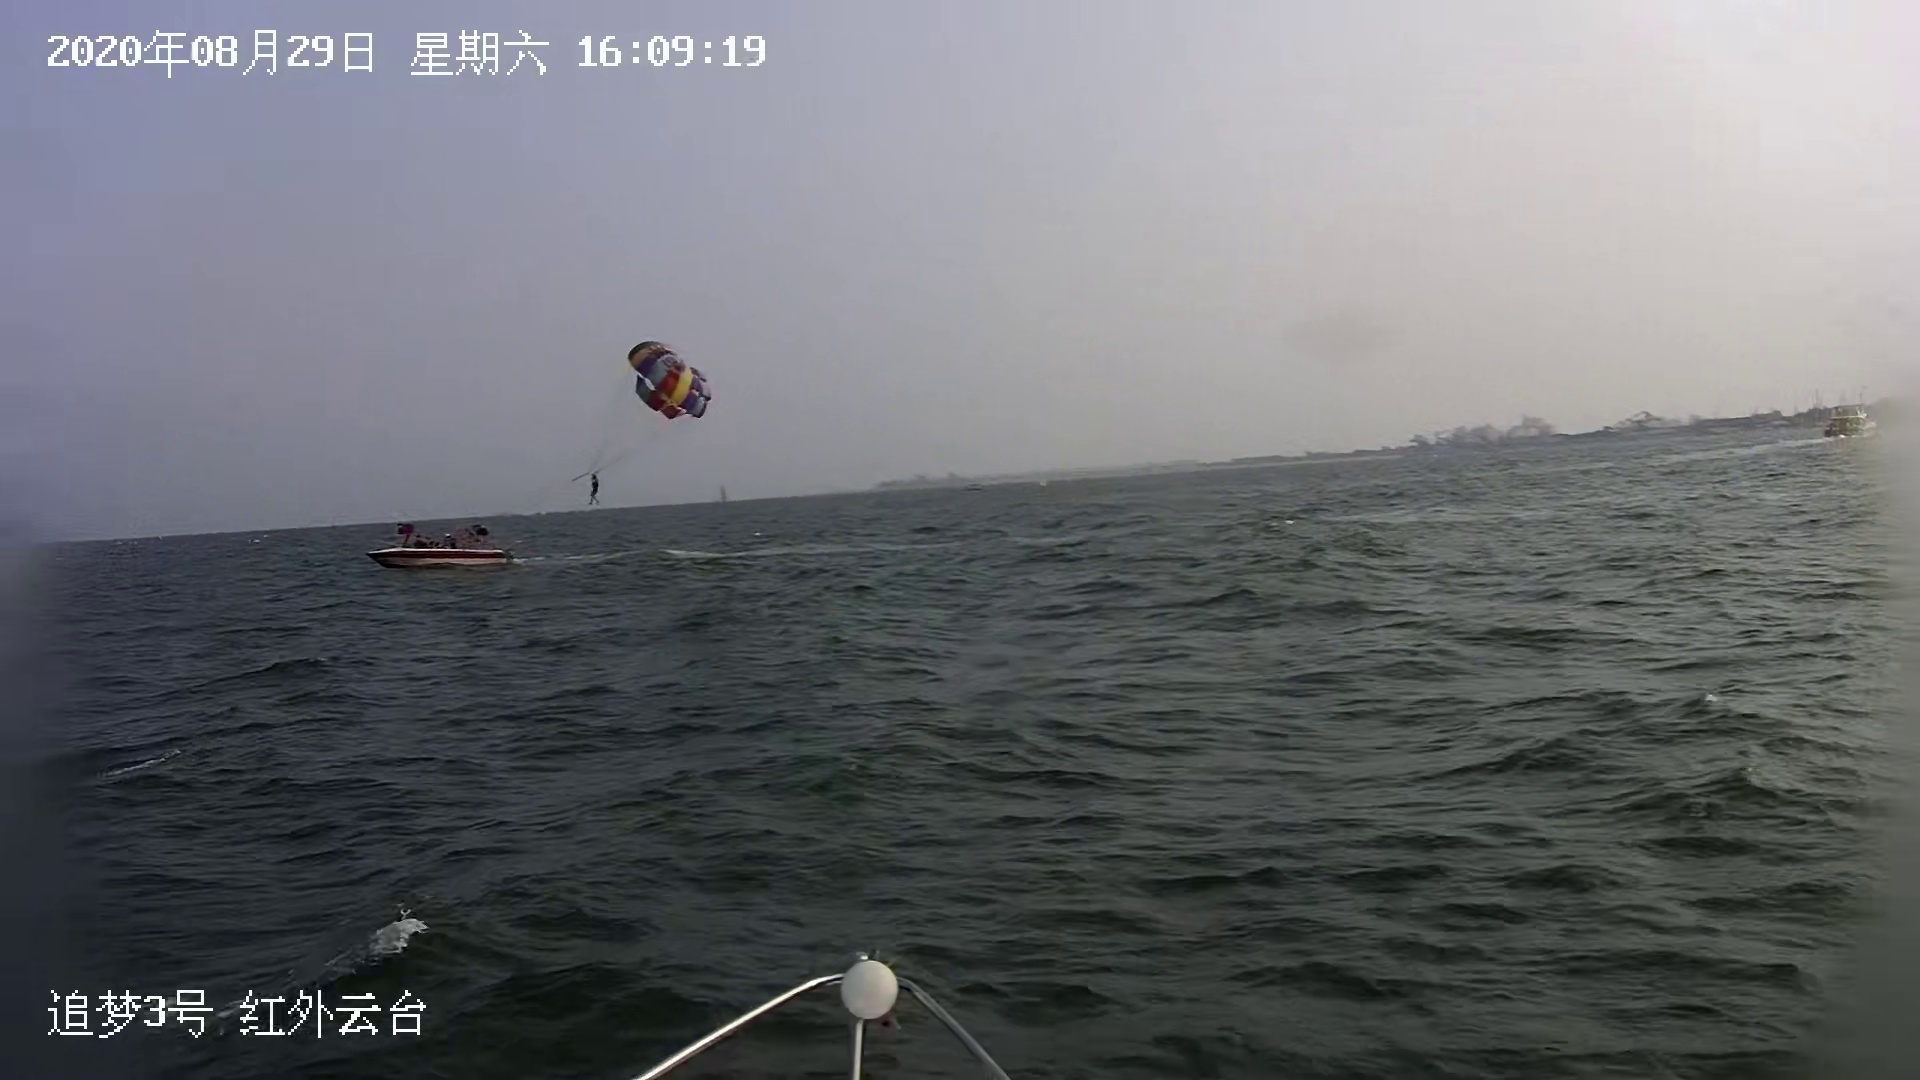barrier: (367, 513, 517, 570), (1825, 396, 1878, 440)
coast: (868, 389, 1917, 502)
